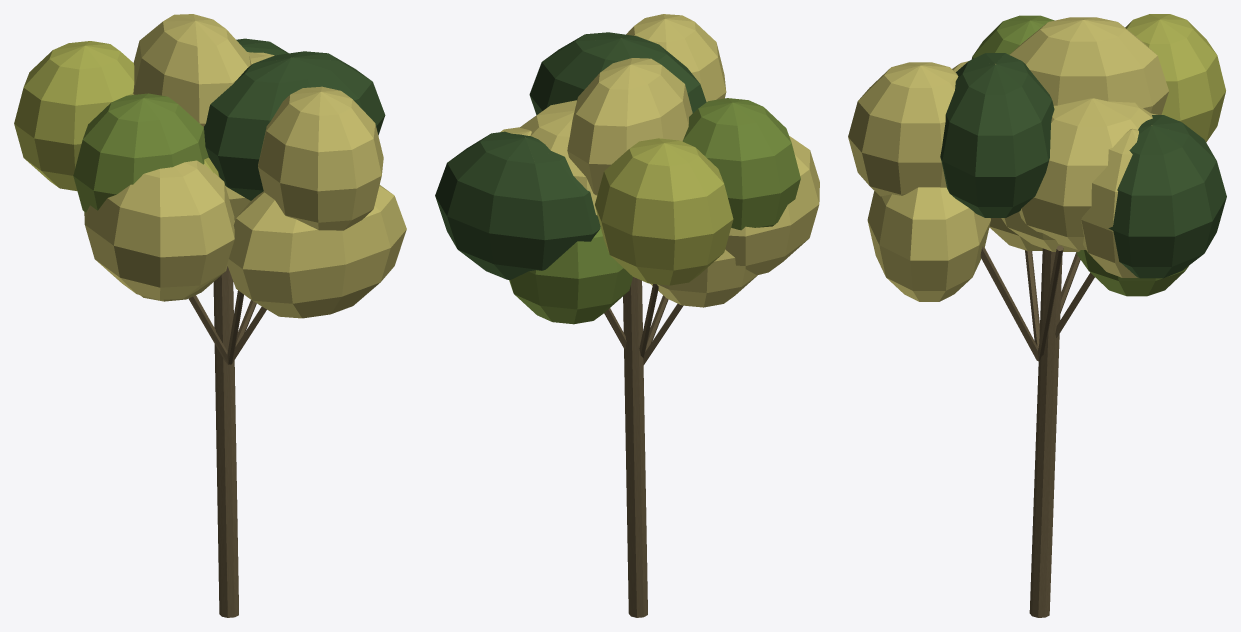
Rendered from Forest_BacklitTree_10.obj.
3 views of the same model, side by side, from view 1: azimuth 30°, elevation 25°; view 2: azimuth 150°, elevation 25°; view 3: azimuth 270°, elevation 25° (orthographic). The views are drawn at different scales.
Parts seen in each view (by area): view 1: Forest_BacklitTree_10; view 2: Forest_BacklitTree_10; view 3: Forest_BacklitTree_10.
Boxes of the visible parts, box(x1,y1,x2,y2) form: Forest_BacklitTree_10: box(14, 14, 406, 617); Forest_BacklitTree_10: box(435, 14, 819, 617); Forest_BacklitTree_10: box(848, 14, 1226, 617).
Size of the model in its own units: 5.65 by 10.71 by 6.26.
Materials: 1 (1 with a texture image).
